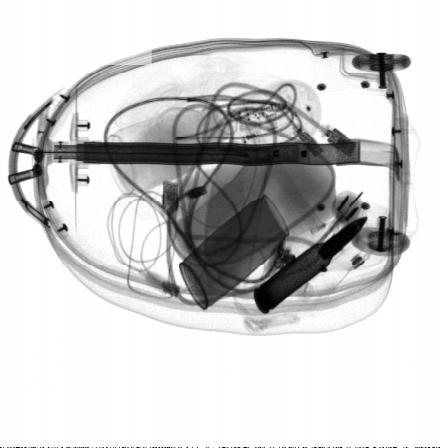Bullet: (253, 215, 370, 315)
